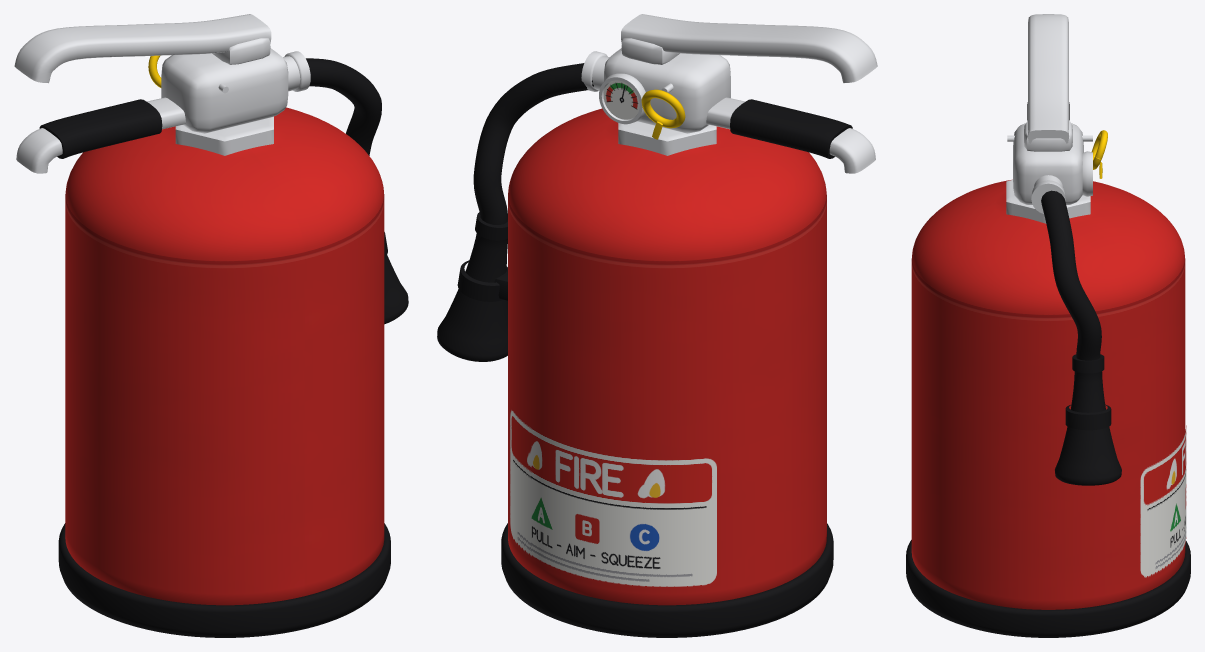
The model's file is extinguisher.glb.
The picture shows the model from 3 angles, left to right: view 1: azimuth 30°, elevation 25°; view 2: azimuth 150°, elevation 25°; view 3: azimuth 270°, elevation 25°; orthographic projection. The views are drawn at different scales.
Parts seen in each view (by area): view 1: extinguisher; view 2: extinguisher; view 3: extinguisher.
Part boxes in pixels (box(x1,y1,x2,y2)): extinguisher: box(14, 14, 408, 637); extinguisher: box(437, 14, 877, 637); extinguisher: box(906, 14, 1190, 637).
Bounding box in the file's own units: 0.7012 × 0.9537 × 0.5.
6 materials, 4 textured.
